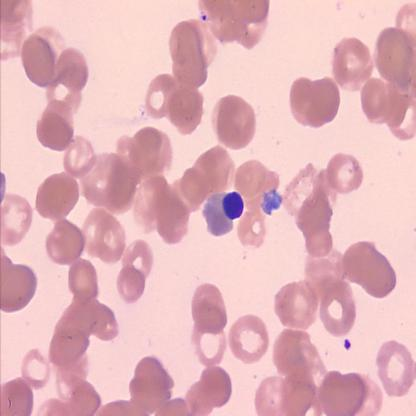NRC: (202, 189, 244, 239)
